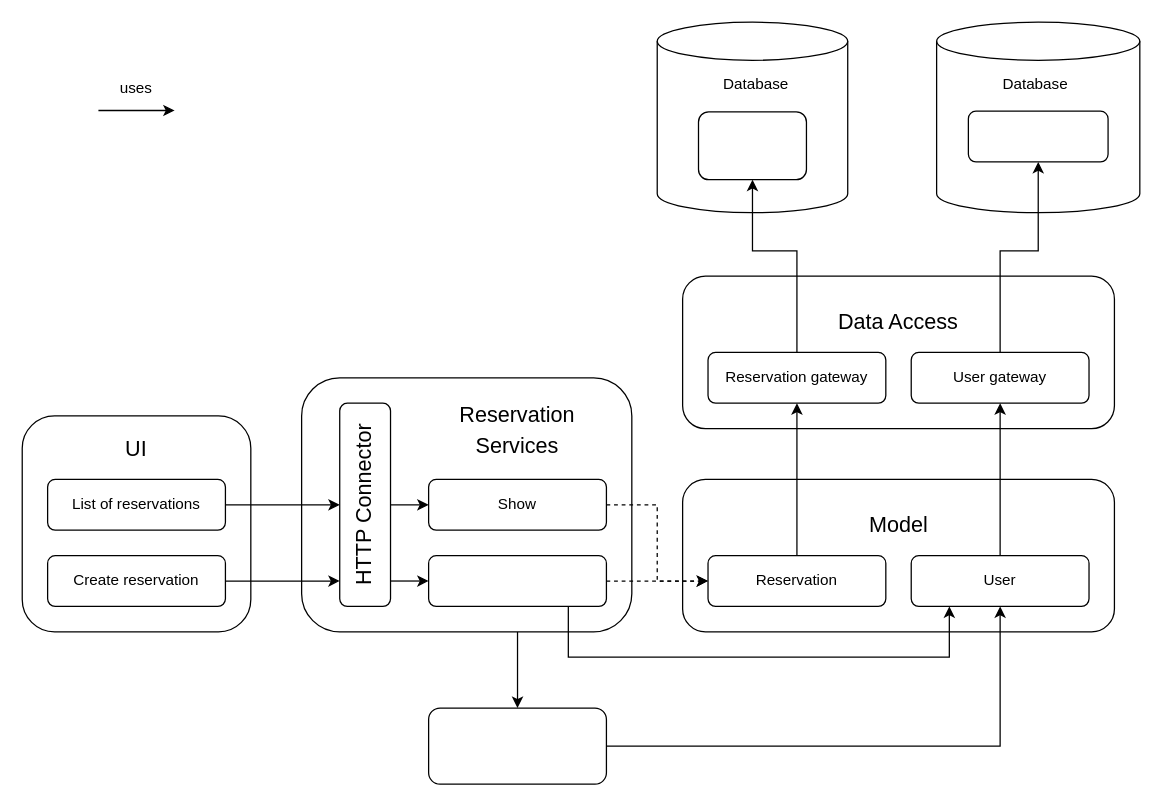
Some shapes in this 1162 by 806 pixel diagram are drawn without their labels. Each missing label, with the box of its shape:
Application Data: (697, 110, 806, 180)
Authorization service: (427, 707, 606, 784)
Create: (427, 554, 606, 606)
Users, Roles: (967, 110, 1108, 162)
